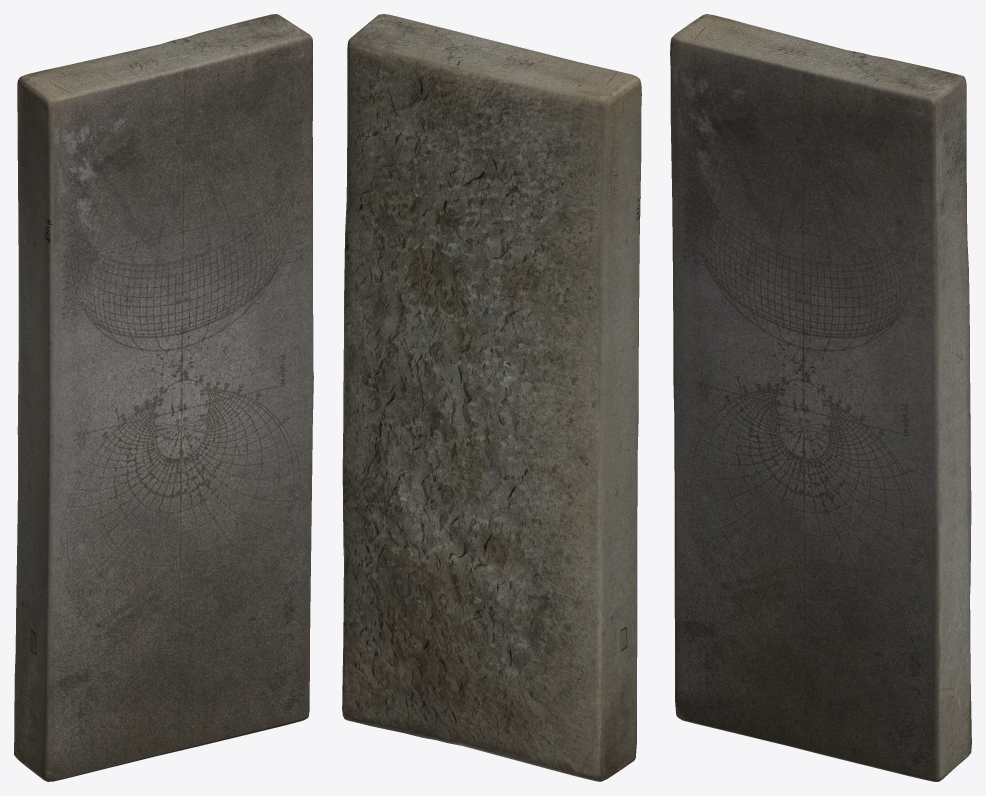
File: PRP_Sundial.glb
3 renders of one model, left to right at view 1: azimuth 30°, elevation 25°; view 2: azimuth 150°, elevation 25°; view 3: azimuth 330°, elevation 25°, orthographic.
Parts seen in each view (by area): view 1: Object_2; view 2: Object_2; view 3: Object_2.
Part boxes in pixels (x1=…): Object_2: x1=14, y1=14, x2=313, y2=781; Object_2: x1=342, y1=14, x2=641, y2=781; Object_2: x1=670, y1=14, x2=971, y2=781.
Bounding box in the file's own units: 527 × 1294 × 147.
Materials: 1 (1 with a texture image).
